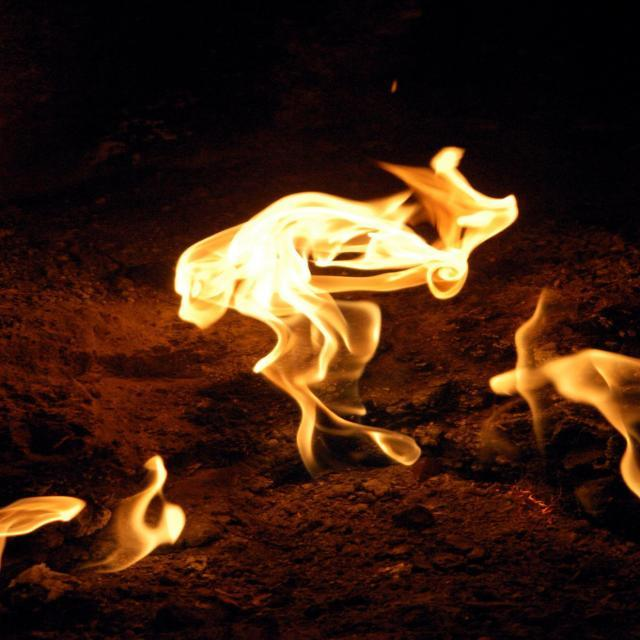Fire: (188, 238, 306, 310), (266, 203, 378, 236), (383, 239, 465, 280)
